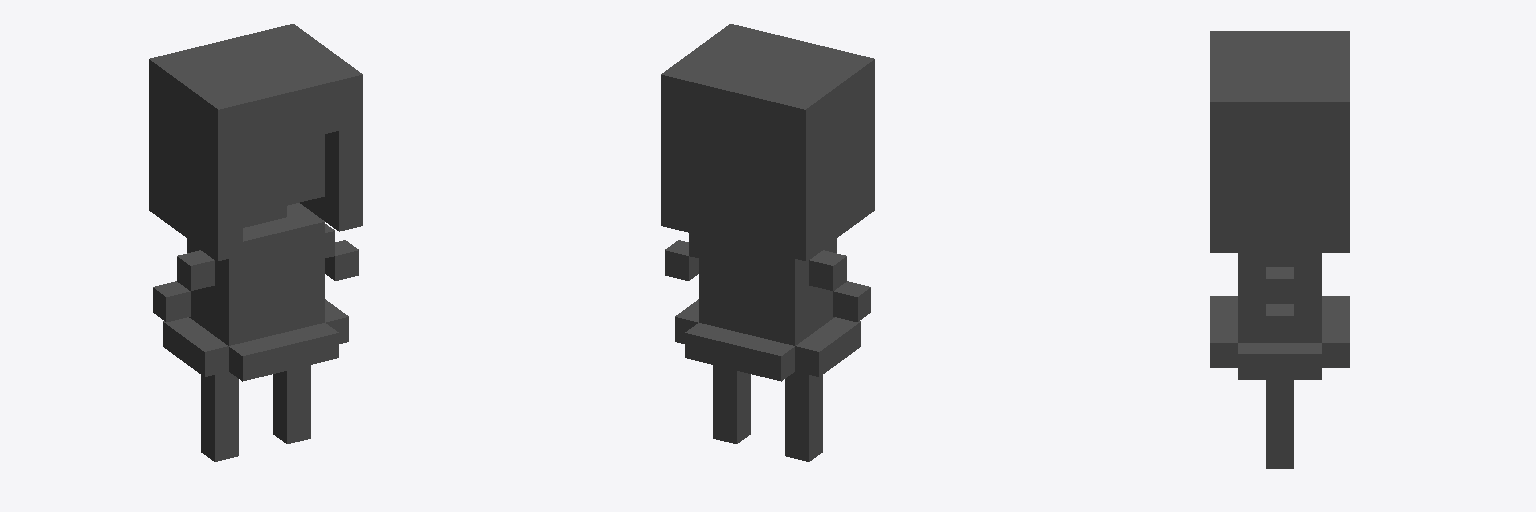
3 renders of one model, left to right at view 1: azimuth 30°, elevation 25°; view 2: azimuth 150°, elevation 25°; view 3: azimuth 270°, elevation 25°, orthographic.
Bounding box in the file's own units: 8 × 15 × 5.
1 materials, 1 textured.